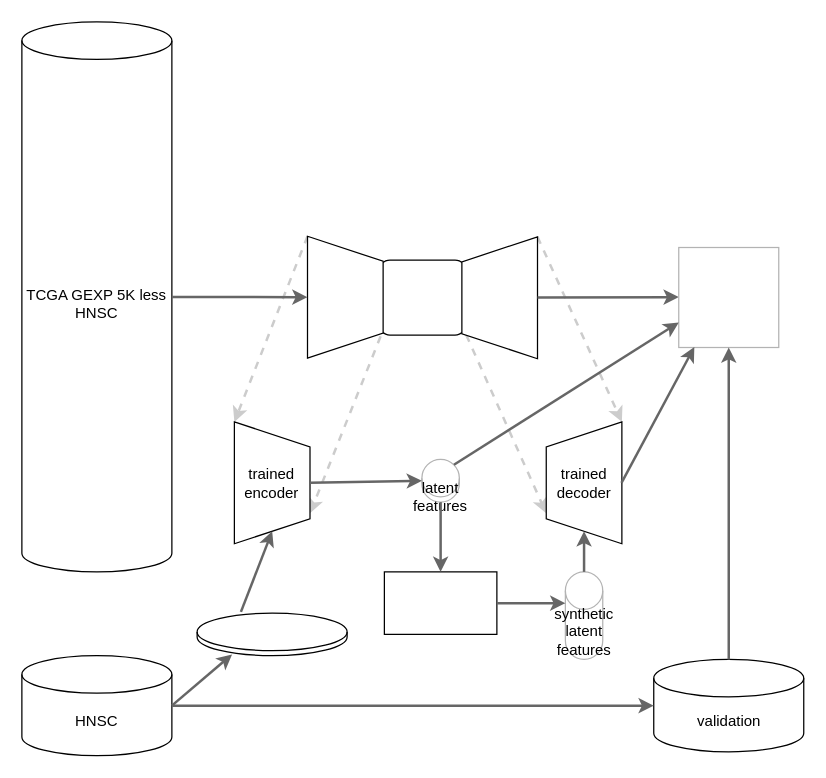
The diagram is 826 pixels wide and 778 high, and some of its shapes have lost their labels. Each missing label, with the centre of its shape:
"Random Forest Classifier" goes at [728,297].
"Recombine latent feature vectors" goes at [440,602].
"train" goes at [271,634].
"VAE" goes at [422,297].
